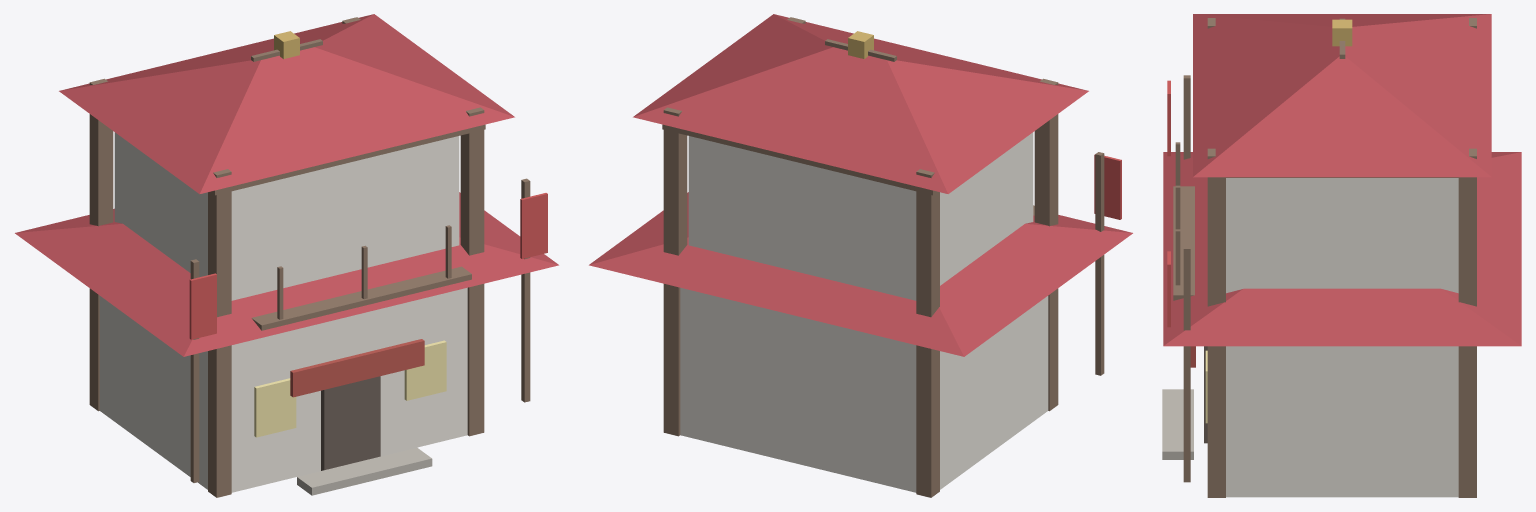
The model's file is landmark_tavern.glb.
The picture shows the model from 3 angles, left to right: view 1: azimuth 30°, elevation 25°; view 2: azimuth 150°, elevation 25°; view 3: azimuth 270°, elevation 25°; orthographic projection. The views are drawn at different scales.
Size of the model in its own units: 8 by 7.78 by 6.25.
